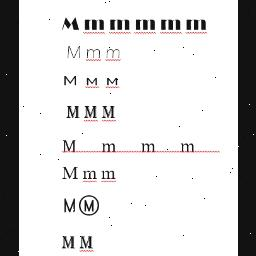m: (57, 16, 79, 36), (62, 42, 82, 62), (60, 162, 78, 182), (82, 18, 106, 32), (62, 104, 80, 120), (81, 103, 97, 121), (100, 104, 116, 122), (59, 136, 77, 152), (98, 140, 116, 156), (59, 233, 75, 251), (62, 72, 78, 88), (82, 76, 100, 90), (62, 196, 76, 214), (84, 47, 100, 59), (104, 76, 120, 88), (81, 168, 97, 180)
